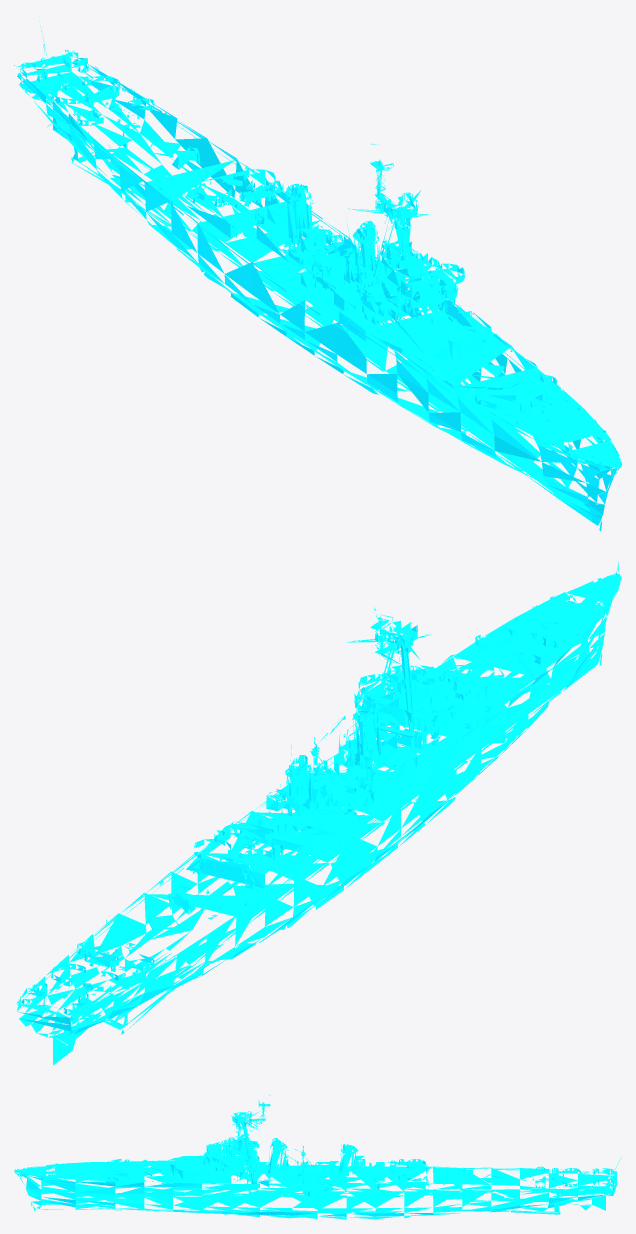
The model's file is La_Galissonniere.glb.
3 renders of one model, top to bottom at view 1: azimuth 30°, elevation 25°; view 2: azimuth 150°, elevation 25°; view 3: azimuth 270°, elevation 25°, orthographic. The views are drawn at different scales.
Bounding box in the file's own units: 1.22 × 2.54 × 12.06.
